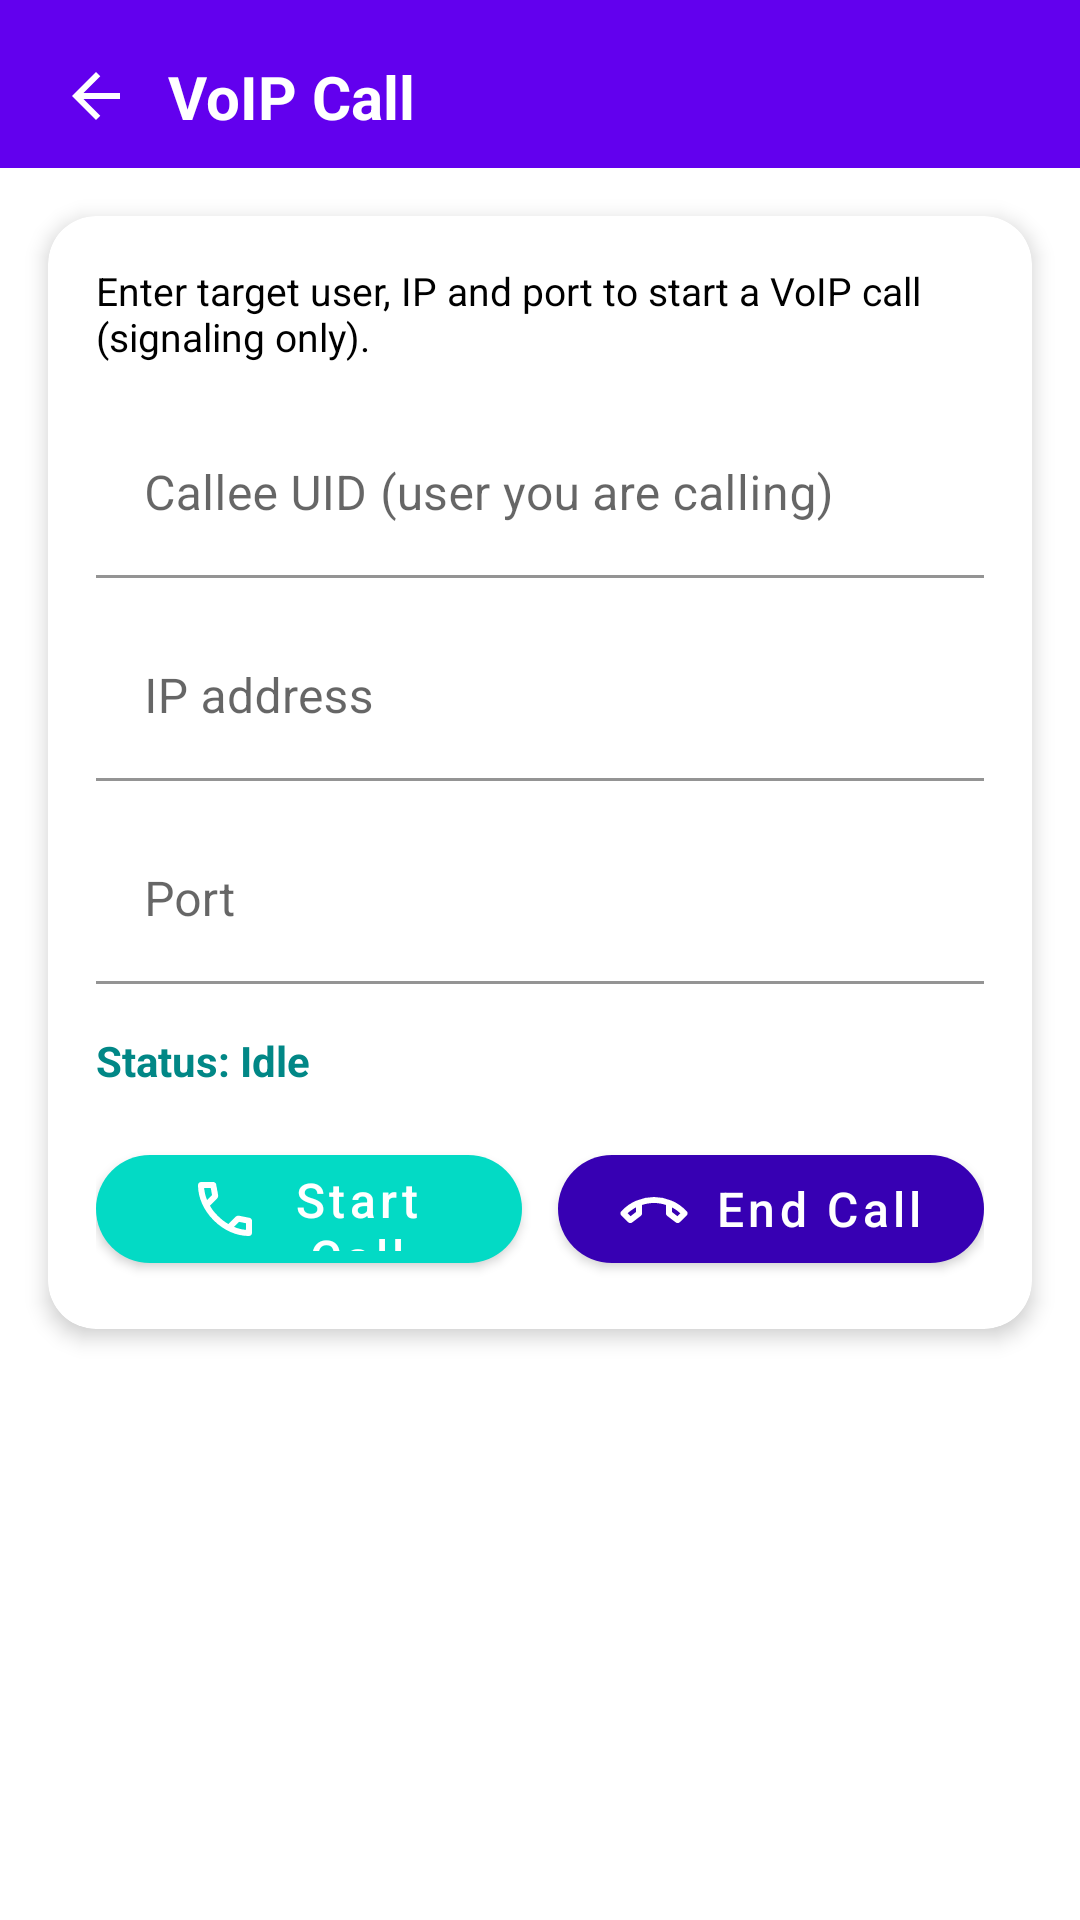

Where to tap for icons on this 1080 x 1920 app screen, as point (x, y):
arrow back: point (96, 96)
